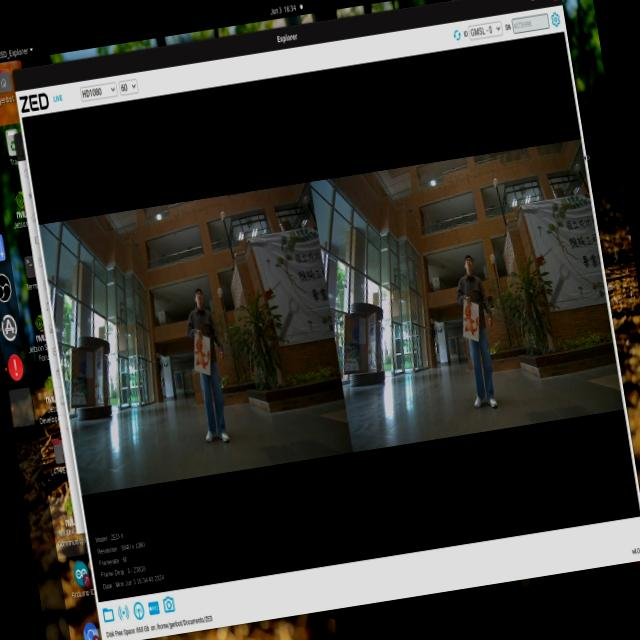red: (192, 332, 217, 378), (455, 297, 483, 337)
